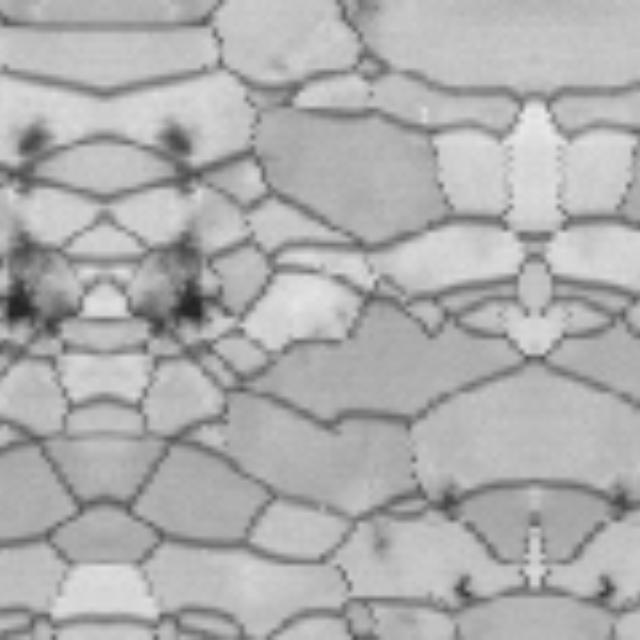good_void: (110, 229, 230, 360), (0, 229, 102, 360), (148, 111, 209, 206), (2, 111, 63, 206), (446, 567, 486, 608), (586, 567, 626, 608), (424, 486, 469, 521), (359, 530, 406, 563), (603, 486, 640, 521)
